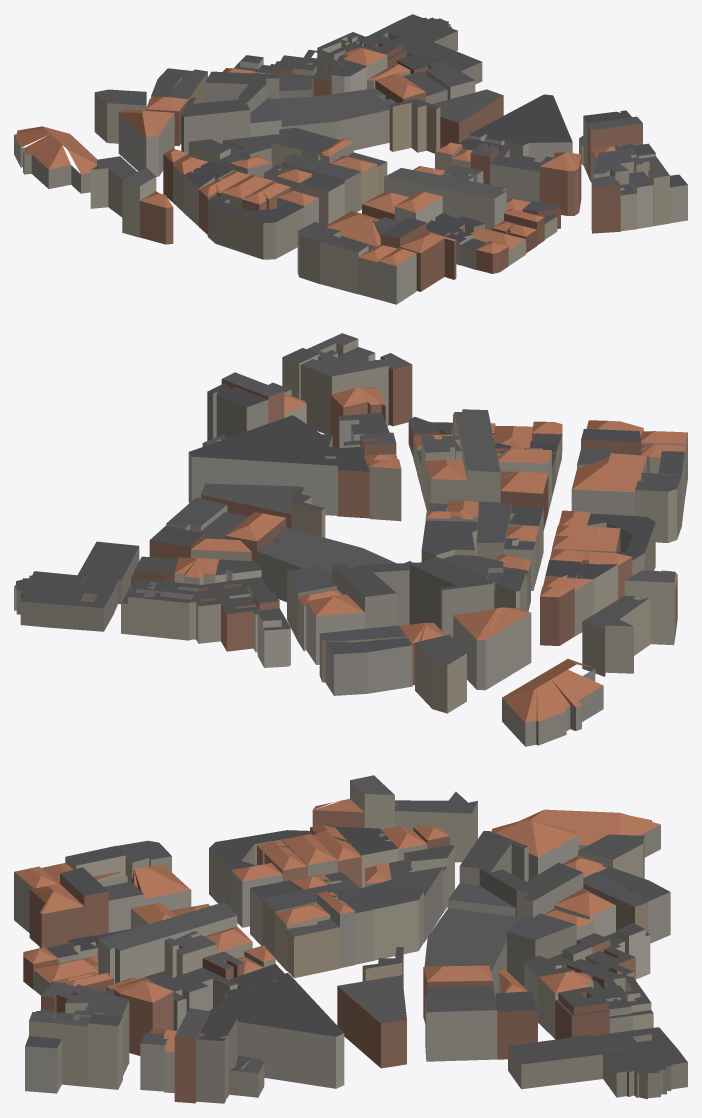
File: -7_-4.far.glb
The picture shows the model from 3 angles, top to bottom: view 1: azimuth 30°, elevation 25°; view 2: azimuth 150°, elevation 25°; view 3: azimuth 270°, elevation 25°; orthographic projection. The views are drawn at different scales.
Visible parts, largest first — view 1: -7_-4_far; view 2: -7_-4_far; view 3: -7_-4_far.
Boxes of the visible parts, bbox=[...] form: -7_-4_far: bbox=[14, 14, 687, 304]; -7_-4_far: bbox=[14, 333, 687, 746]; -7_-4_far: bbox=[14, 775, 687, 1103].
Size of the model in its own units: 277 by 36.78 by 282.
